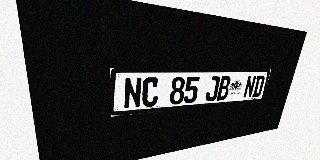5: (183, 77, 200, 104)
8: (169, 77, 186, 105)
B: (216, 76, 232, 101)
C: (141, 77, 159, 107)
D: (252, 76, 265, 97)
J: (205, 76, 220, 102)
N: (123, 77, 142, 109), (243, 76, 257, 98)
